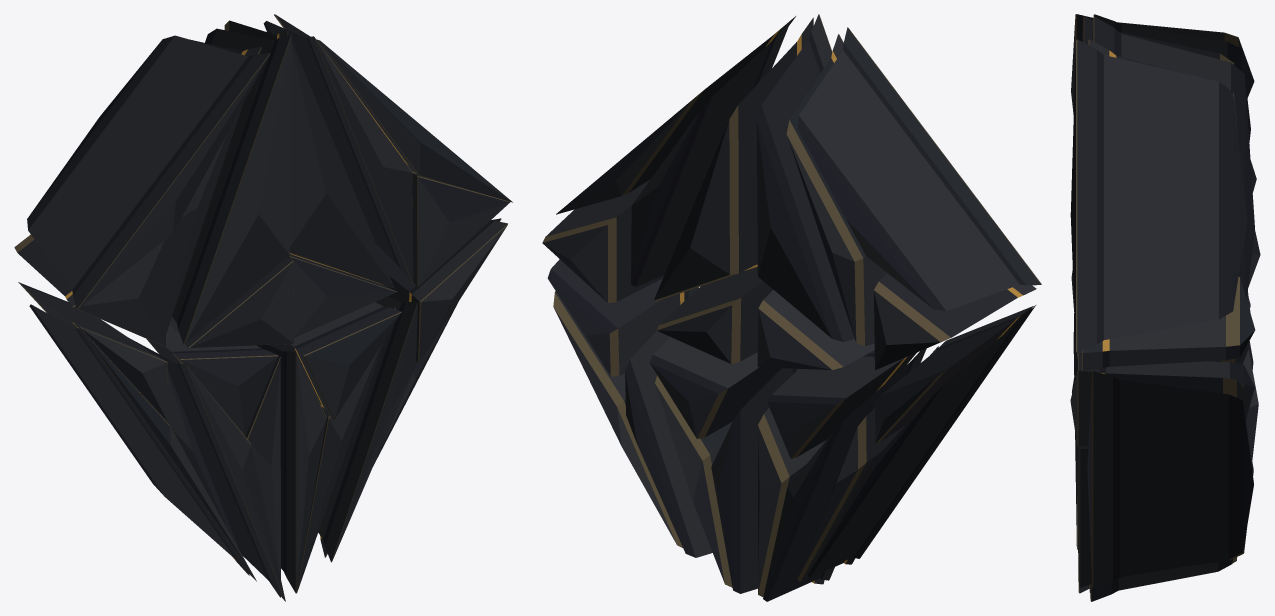
File: merger-singularity.glb
3 views of the same model, side by side, from view 1: azimuth 30°, elevation 25°; view 2: azimuth 150°, elevation 25°; view 3: azimuth 270°, elevation 25° (orthographic). The views are drawn at different scales.
Parts seen in each view (by area): view 1: shard_00, shard_03, shard_06, shard_09, shard_12, shard_15, shard_20, shard_17, shard_16, shard_01, shard_08, shard_07 (+10 smaller); view 2: shard_00, shard_03, shard_06, shard_12, shard_09, shard_15, shard_17, shard_02, shard_20, shard_14, shard_16, shard_07 (+10 smaller); view 3: shard_08, shard_21, shard_07, shard_06, shard_19, shard_16, shard_20, shard_02, shard_18, shard_00, shard_15, shard_03 (+3 smaller).
Boxes of the visible parts, left/top/right/bottom form: shard_00: left=27, top=35, right=270, bottom=309; shard_03: left=172, top=28, right=291, bottom=344; shard_06: left=224, top=20, right=394, bottom=288; shard_09: left=263, top=21, right=413, bottom=284; shard_12: left=29, top=304, right=256, bottom=581; shard_15: left=131, top=339, right=285, bottom=601; shard_20: left=318, top=296, right=417, bottom=562; shard_17: left=257, top=345, right=326, bottom=593; shard_16: left=269, top=302, right=401, bottom=419; shard_01: left=14, top=234, right=167, bottom=346; shard_08: left=274, top=14, right=512, bottom=202; shard_07: left=405, top=162, right=510, bottom=286; shard_00: left=798, top=27, right=1041, bottom=310; shard_03: left=756, top=14, right=854, bottom=341; shard_06: left=654, top=17, right=813, bottom=301; shard_12: left=808, top=305, right=1035, bottom=577; shard_09: left=631, top=20, right=790, bottom=286; shard_15: left=763, top=348, right=926, bottom=601; shard_17: left=711, top=368, right=798, bottom=593; shard_02: left=786, top=34, right=886, bottom=346; shard_20: left=625, top=287, right=712, bottom=557; shard_14: left=767, top=350, right=916, bottom=458; shard_16: left=649, top=337, right=781, bottom=438; shard_07: left=542, top=179, right=663, bottom=302; shard_08: left=1070, top=39, right=1247, bottom=352; shard_21: left=1087, top=371, right=1253, bottom=587; shard_07: left=1080, top=277, right=1255, bottom=370; shard_06: left=1092, top=16, right=1254, bottom=299; shard_19: left=1070, top=370, right=1251, bottom=447; shard_16: left=1072, top=352, right=1254, bottom=420; shard_20: left=1076, top=424, right=1253, bottom=587; shard_02: left=1093, top=14, right=1250, bottom=142; shard_18: left=1090, top=559, right=1233, bottom=601; shard_00: left=1071, top=14, right=1254, bottom=114; shard_15: left=1077, top=349, right=1258, bottom=593; shard_03: left=1082, top=16, right=1234, bottom=64.
Bounding box in the file's own units: 3.72 × 4.58 × 1.36.
